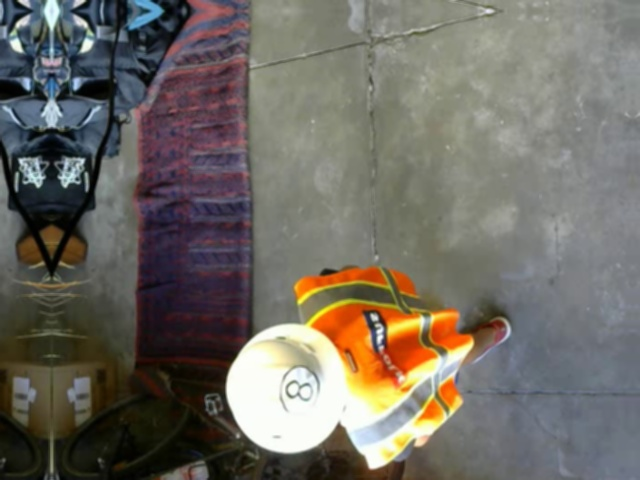eight: (278, 365, 320, 415)
